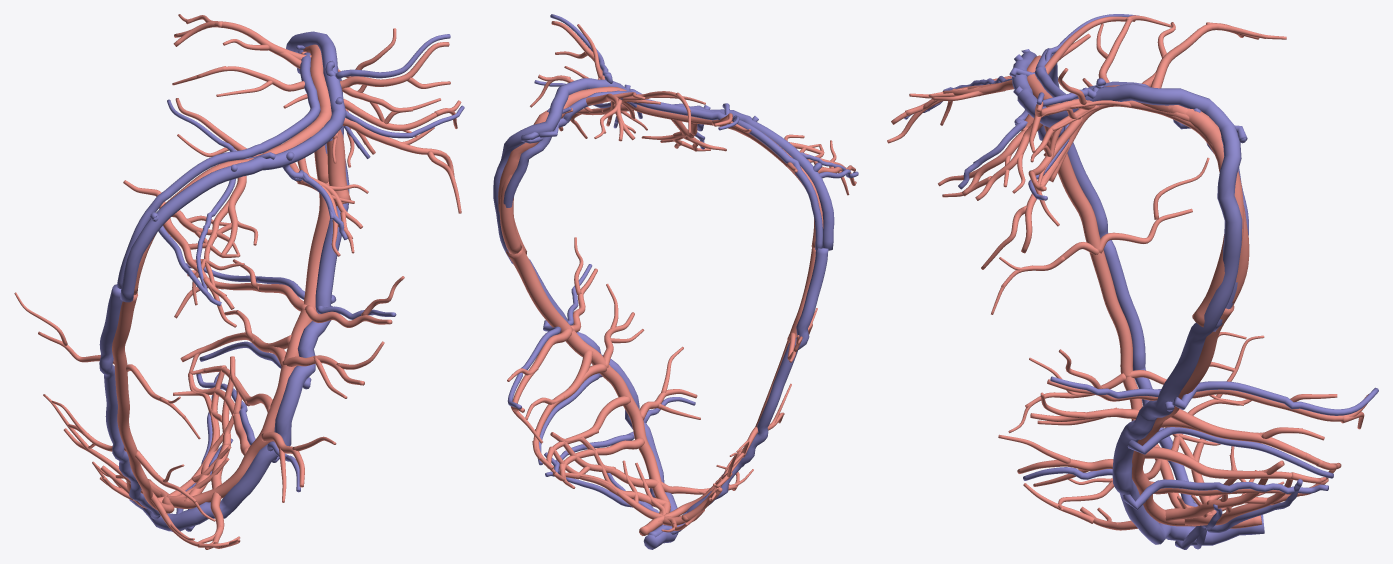
Rendered from vessels_43.glb.
3 views of the same model, side by side, from view 1: azimuth 30°, elevation 25°; view 2: azimuth 150°, elevation 25°; view 3: azimuth 270°, elevation 25° (orthographic). The views are drawn at different scales.
Parts seen in each view (by area): view 1: Renderer Node; view 2: Renderer Node; view 3: Renderer Node.
Boxes of the visible parts, left/top/right/bottom form: Renderer Node: left=14, top=14, right=464, bottom=549; Renderer Node: left=493, top=14, right=858, bottom=549; Renderer Node: left=887, top=14, right=1378, bottom=549.
Bounding box in the file's own units: 94.73 × 122 × 95.31.
